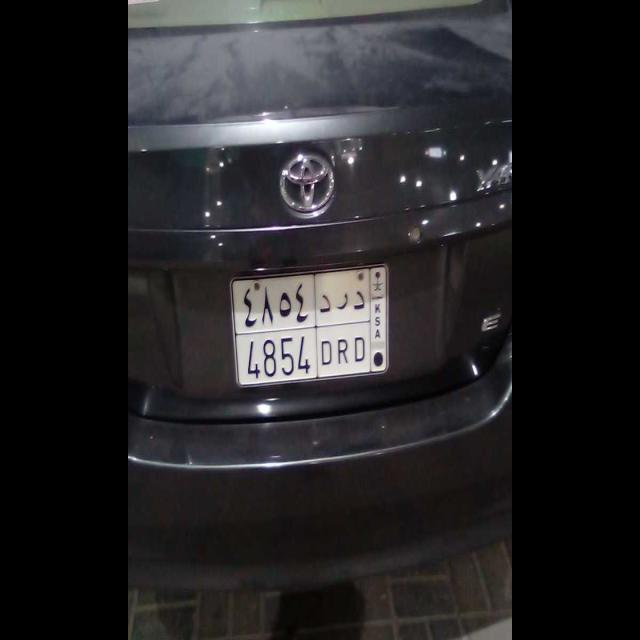license_plate: (238, 326, 372, 391)
